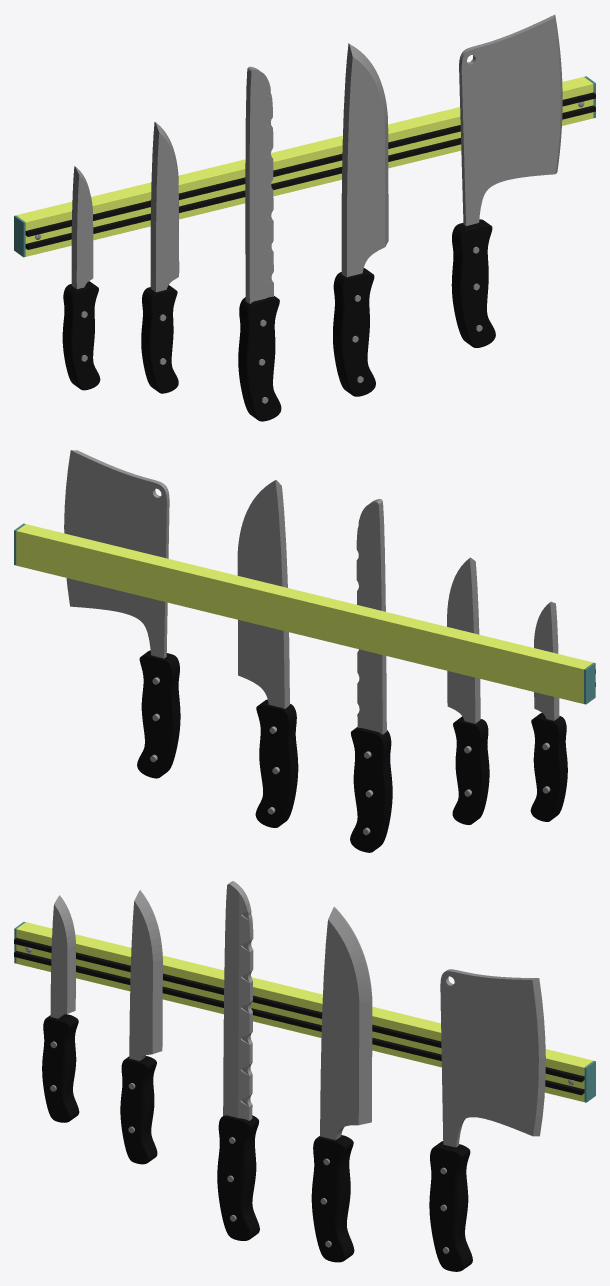
File: KnifeRack.FBX
3 views of the same model, one above another, from view 1: azimuth 30°, elevation 25°; view 2: azimuth 150°, elevation 25°; view 3: azimuth 330°, elevation 25° (orthographic).
Visible parts, largest first — view 1: Obj_000002; view 2: Obj_000002; view 3: Obj_000002.
Boxes of the visible parts, left/top/right/bottom form: Obj_000002: left=14, top=14, right=595, bottom=421; Obj_000002: left=14, top=450, right=595, bottom=852; Obj_000002: left=14, top=881, right=595, bottom=1271.
Size of the model in its own units: 68.13 by 40.04 by 4.52.
